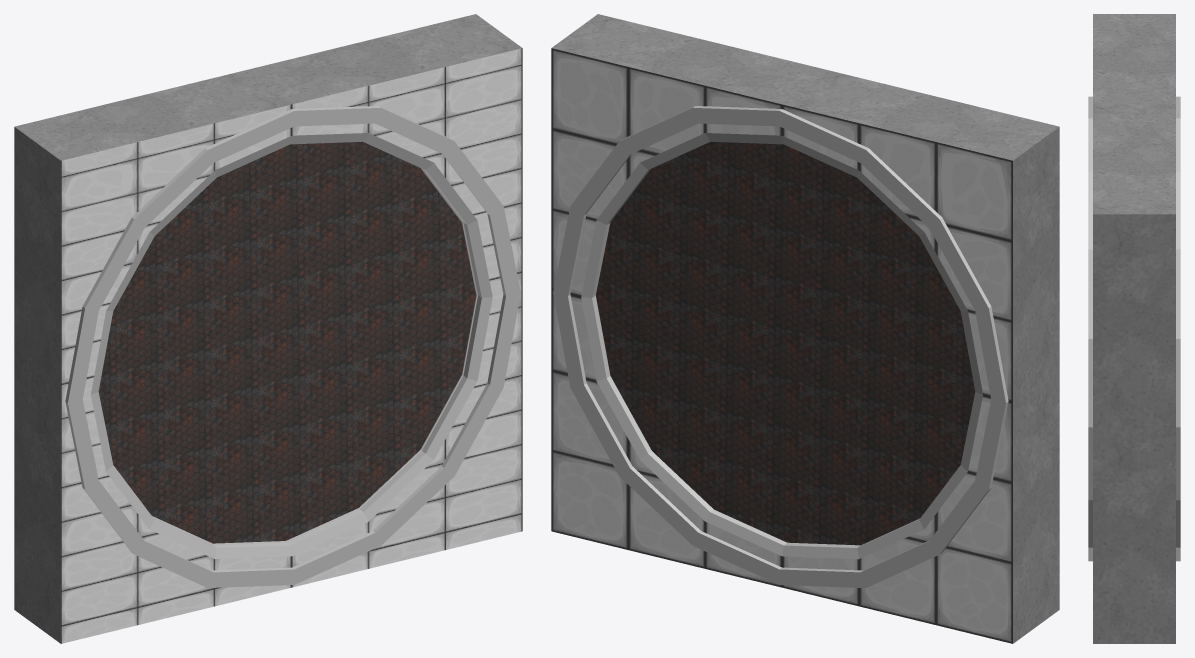
File: SM_Wall_Ventilation.fbx
3 views of the same model, side by side, from view 1: azimuth 30°, elevation 25°; view 2: azimuth 150°, elevation 25°; view 3: azimuth 270°, elevation 25° (orthographic). The views are drawn at different scales.
Visible parts, largest first — view 1: SM_Wall_Ventilation, SM_Ventilation_Lattice; view 2: SM_Wall_Ventilation, SM_Ventilation_Lattice; view 3: SM_Wall_Ventilation.
Boxes of the visible parts, box(x1,y1,x2,y2) form: SM_Wall_Ventilation: box(14, 14, 522, 643); SM_Ventilation_Lattice: box(98, 141, 476, 543); SM_Wall_Ventilation: box(551, 14, 1059, 643); SM_Ventilation_Lattice: box(596, 141, 975, 545); SM_Wall_Ventilation: box(1088, 14, 1180, 643).
Bounding box in the file's own units: 800 × 800 × 156.
